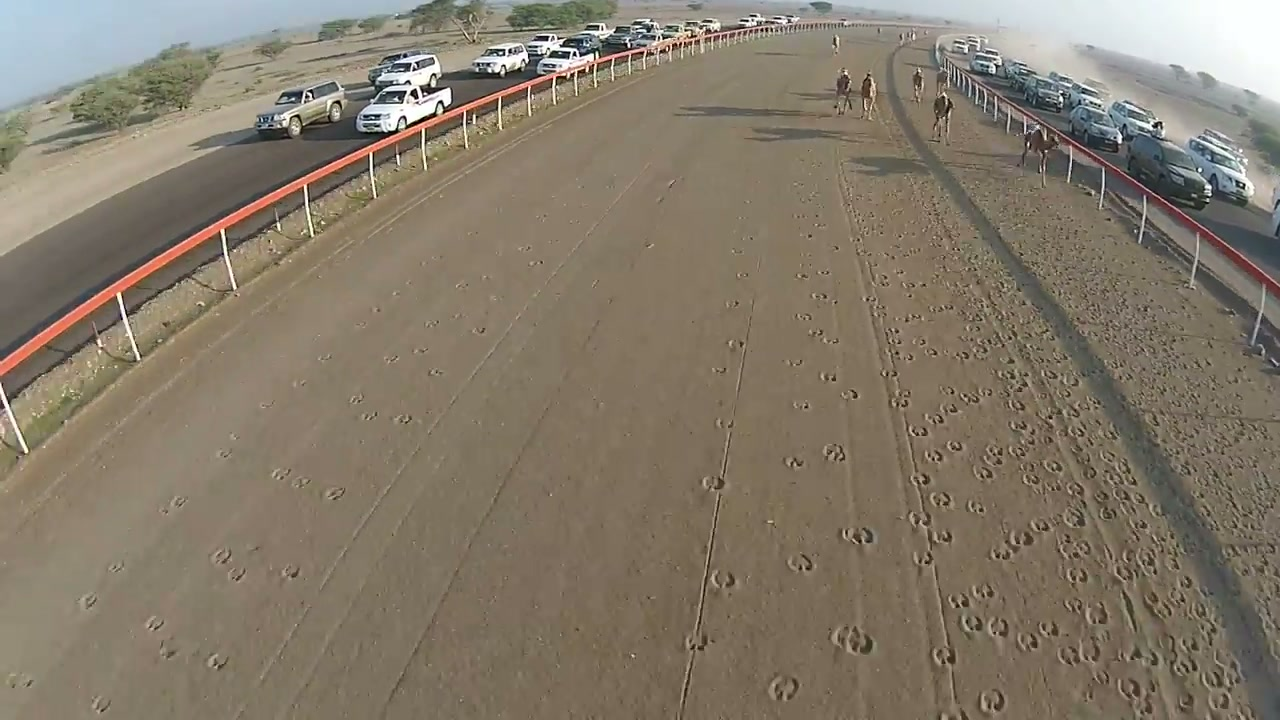animal_foot_print: (971, 409, 1128, 688), (1080, 442, 1237, 708), (830, 625, 874, 655), (768, 675, 799, 701), (978, 689, 1006, 714), (786, 553, 815, 573), (841, 528, 876, 544), (710, 569, 736, 590), (823, 443, 845, 462), (701, 475, 724, 491), (1189, 602, 1214, 615), (206, 653, 226, 669), (211, 547, 230, 563), (783, 456, 804, 469), (931, 493, 951, 506), (145, 616, 163, 630), (325, 487, 344, 500), (841, 389, 858, 400), (925, 451, 942, 461), (717, 418, 730, 427), (797, 313, 811, 320)
